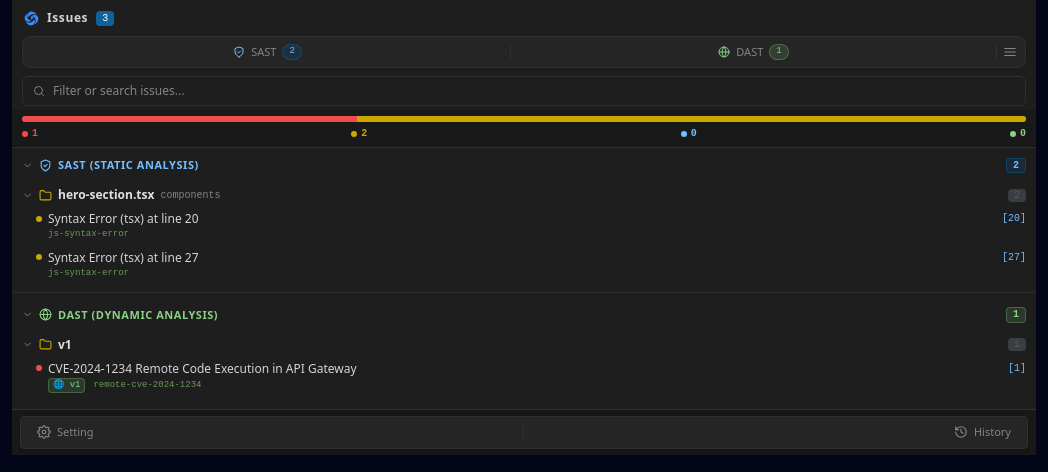
Test case: IssueTreeSidebar › filters findings using the search bar
The image size is (1048, 472).
Type "CVE-2024" into the field with placeholder "Filter or search issues...".
click(534, 91); type("CVE-2024")  # box 53,83 -> 1015,99
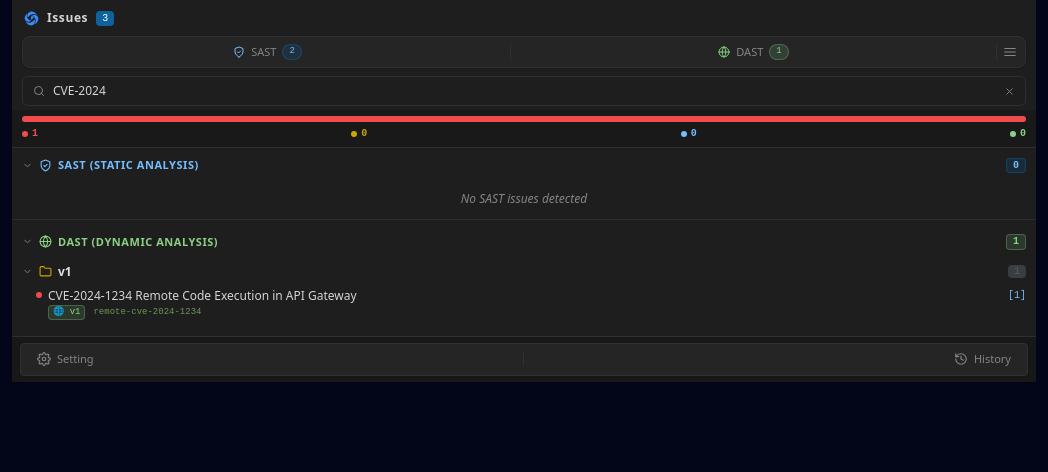
Expected: the text "CVE-2024-1234 Remote Code Execution in API Gateway" is shown, 48,287 -> 357,304
Expected: the button "Syntax Error (tsx) at line 20" is gone
